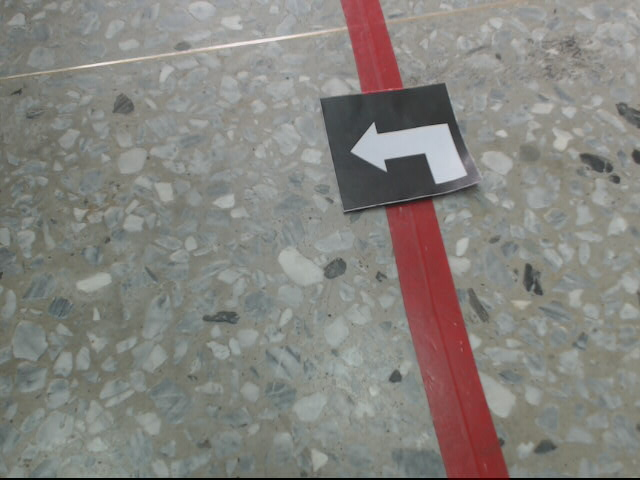left: (318, 82, 484, 214)
